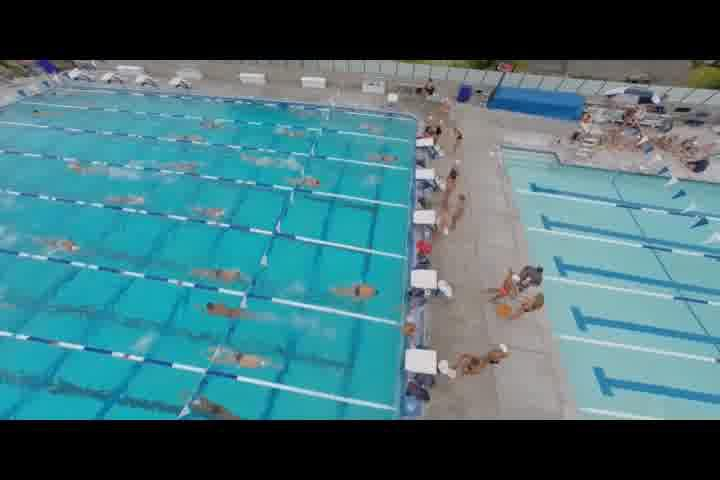swimmer: (210, 354, 270, 369), (326, 286, 382, 298)
